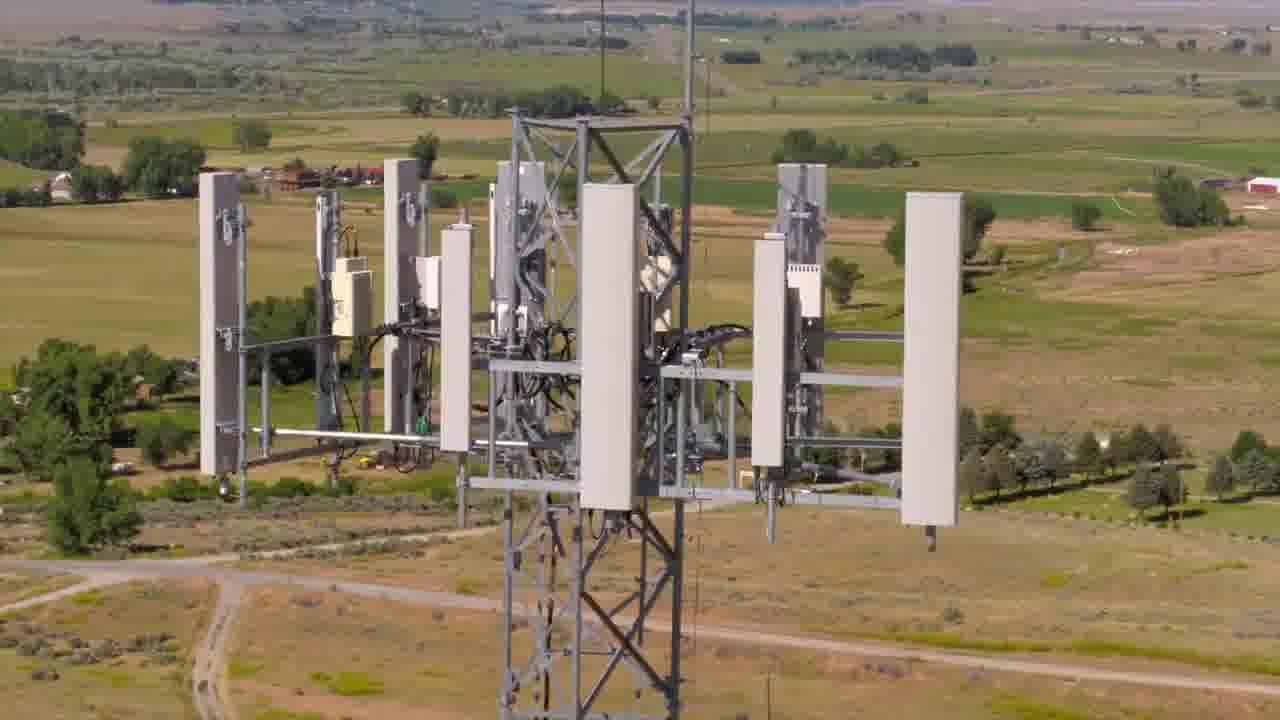antenna: (578, 159, 652, 531), (899, 181, 972, 542), (195, 169, 250, 491), (375, 158, 427, 438), (434, 217, 485, 469), (755, 233, 792, 486), (309, 189, 347, 434)
